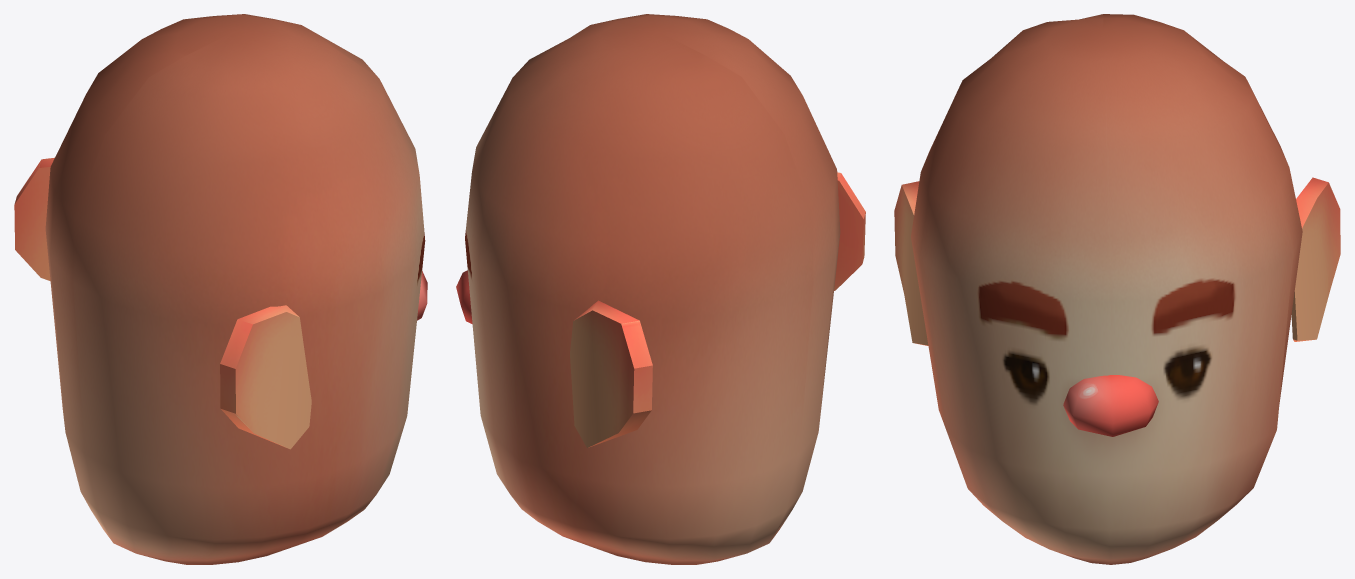
File: mkc_head.fbx
3 views of the same model, side by side, from view 1: azimuth 30°, elevation 25°; view 2: azimuth 150°, elevation 25°; view 3: azimuth 270°, elevation 25° (orthographic).
Parts seen in each view (by area): view 1: Nose_Producer; view 2: Nose_Producer; view 3: Nose_Producer.
Boxes of the visible parts, x1,y1,x2,y2 form: Nose_Producer: (14,14,427,564); Nose_Producer: (456,14,865,564); Nose_Producer: (894,14,1340,564).
Size of the model in its own units: 2.99 by 4.12 by 3.28.
